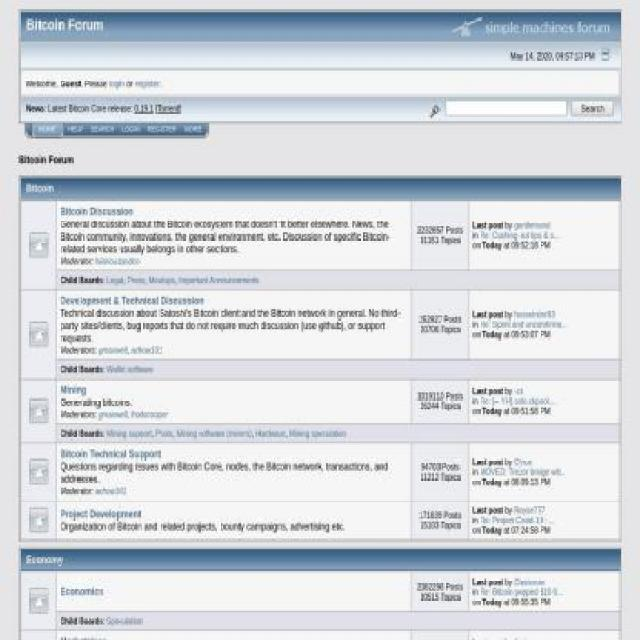field: (445, 99, 567, 116), (572, 99, 614, 116)
